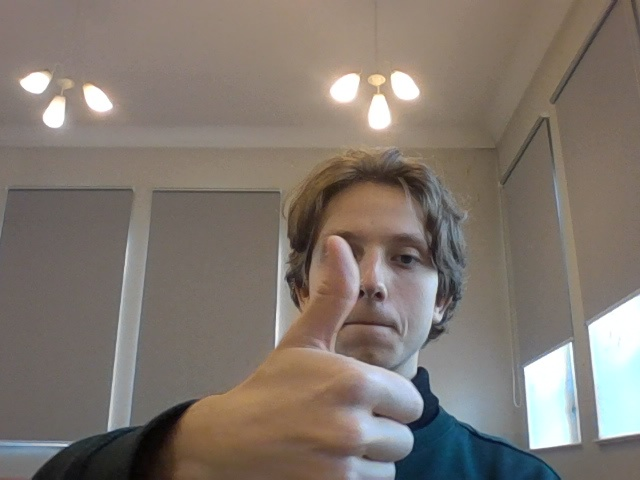thank you: (215, 235, 427, 480)
